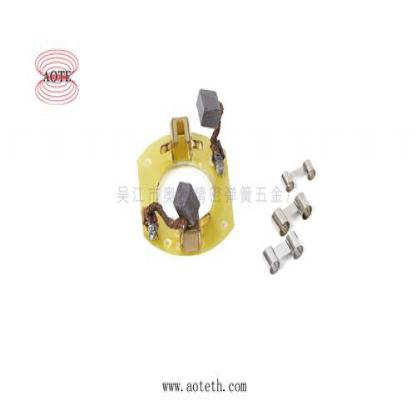FOD: (261, 231, 305, 277)
